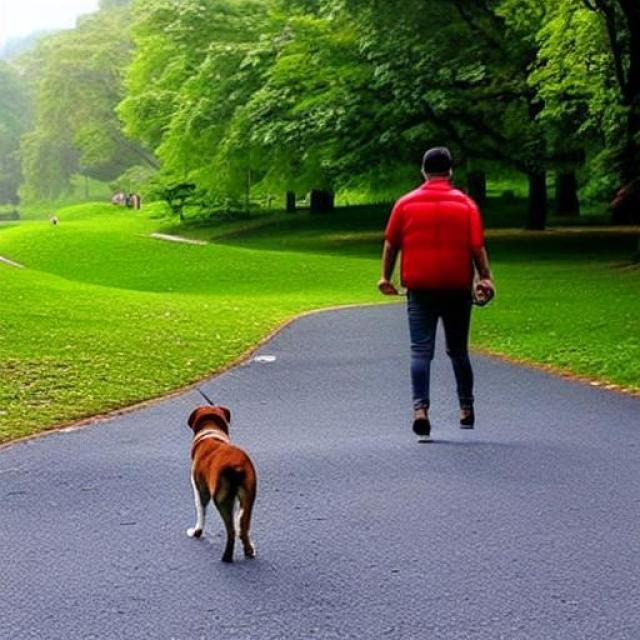Unleashed_Dog: (185, 274, 493, 564)
